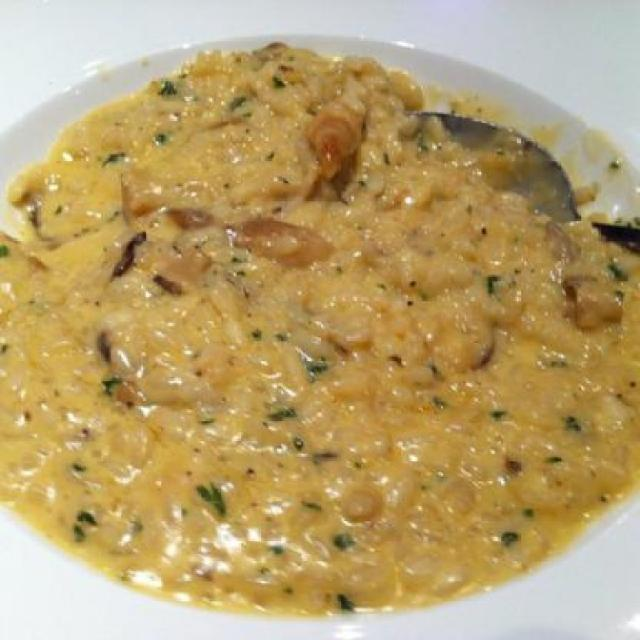Risotto: (11, 48, 624, 594)
